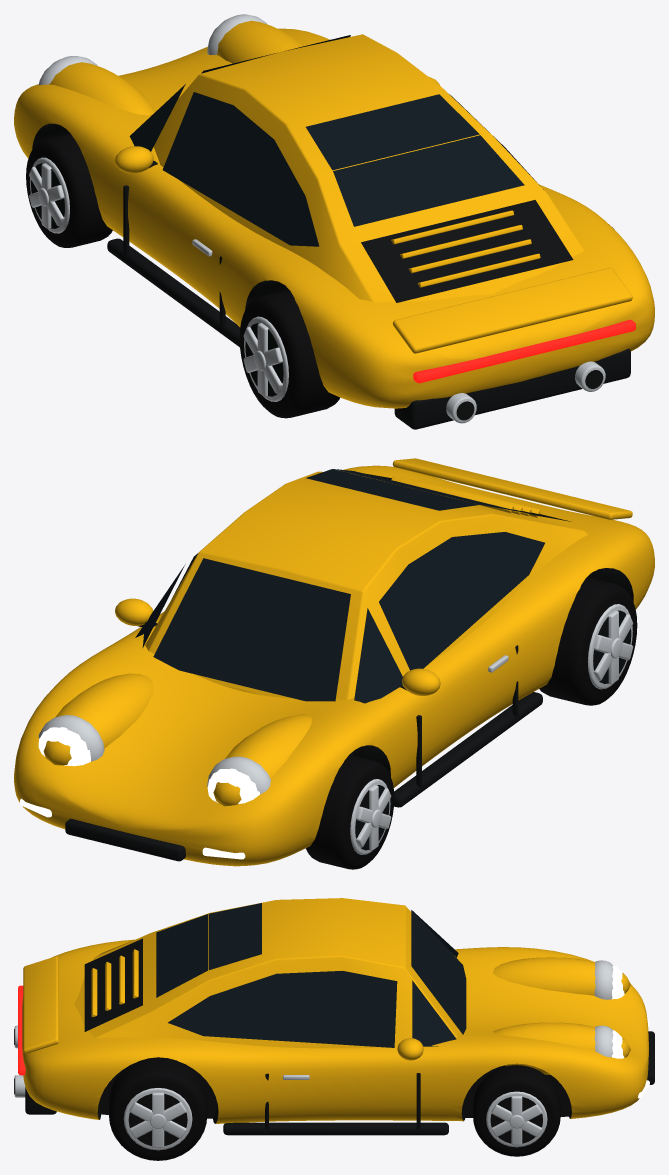
Rendered from sports.glb.
3 renders of one model, top to bottom at view 1: azimuth 30°, elevation 25°; view 2: azimuth 150°, elevation 25°; view 3: azimuth 270°, elevation 25°, orthographic. The views are drawn at different scales.
Visible parts, largest first — view 1: Paint parts, Glass parts, Charcoal parts, Wheel_RL, Wheel_FL, Tail lamp parts, Silver parts; view 2: Paint parts, Glass parts, Wheel_RL, Wheel_FL, Charcoal parts, Headlamp parts, Silver parts; view 3: Paint parts, Glass parts, Wheel_RR, Charcoal parts, Wheel_FR, Silver parts, Headlamp parts, Tail lamp parts.
Part boxes in pixels (<box>): Paint parts: <box>14,20,654,408</box>; Glass parts: <box>129,35,543,246</box>; Charcoal parts: <box>107,160,630,429</box>; Wheel_RL: <box>239,289,340,418</box>; Wheel_FL: <box>26,133,112,247</box>; Tail lamp parts: <box>413,319,635,383</box>; Silver parts: <box>38,14,605,423</box>; Paint parts: <box>14,458,654,866</box>; Glass parts: <box>135,469,544,703</box>; Wheel_RL: <box>539,577,637,705</box>; Wheel_FL: <box>306,754,394,869</box>; Charcoal parts: <box>65,473,571,861</box>; Headlamp parts: <box>20,727,259,859</box>; Silver parts: <box>38,655,508,794</box>; Paint parts: <box>22,898,648,1123</box>; Glass parts: <box>156,903,466,1047</box>; Wheel_RR: <box>109,1057,207,1160</box>; Charcoal parts: <box>14,938,654,1135</box>; Wheel_FR: <box>473,1065,560,1156</box>; Silver parts: <box>14,960,613,1097</box>; Headlamp parts: <box>612,965,649,1098</box>; Tail lamp parts: <box>18,985,25,1075</box>.
Bounding box in the file's own units: 2.45 × 1.43 × 4.82.
